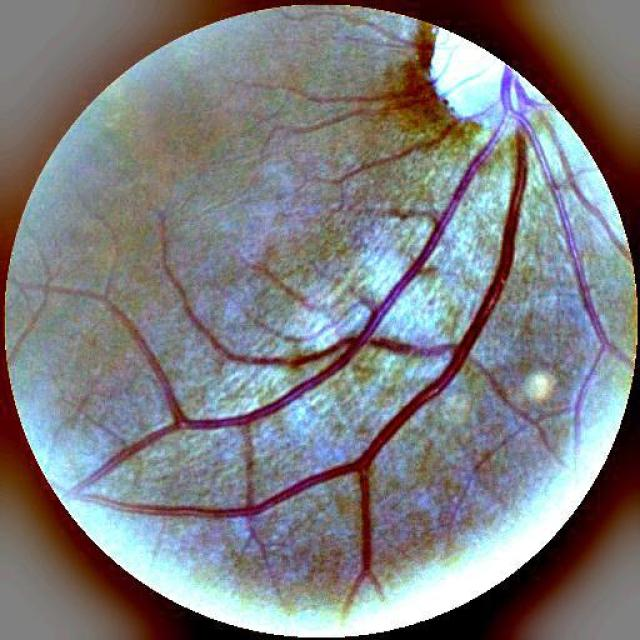Nerves: (46, 75, 619, 595)
Optic Disk: (432, 31, 504, 115)
